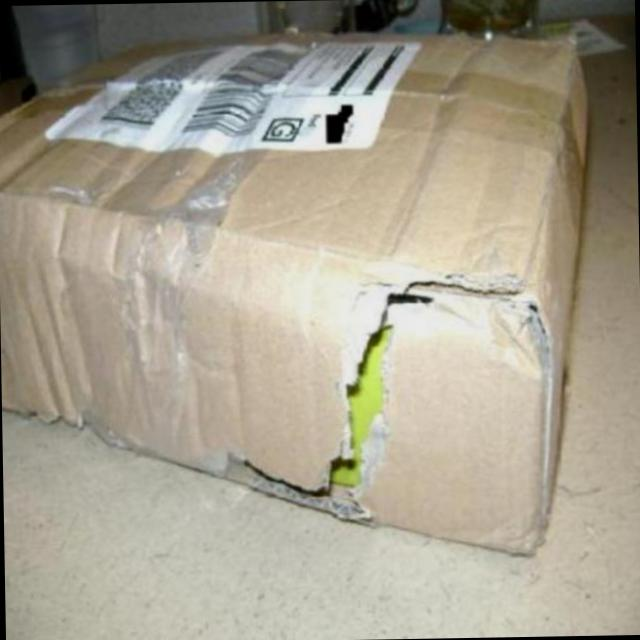box: (0, 30, 592, 556)
tear: (330, 292, 388, 493)
